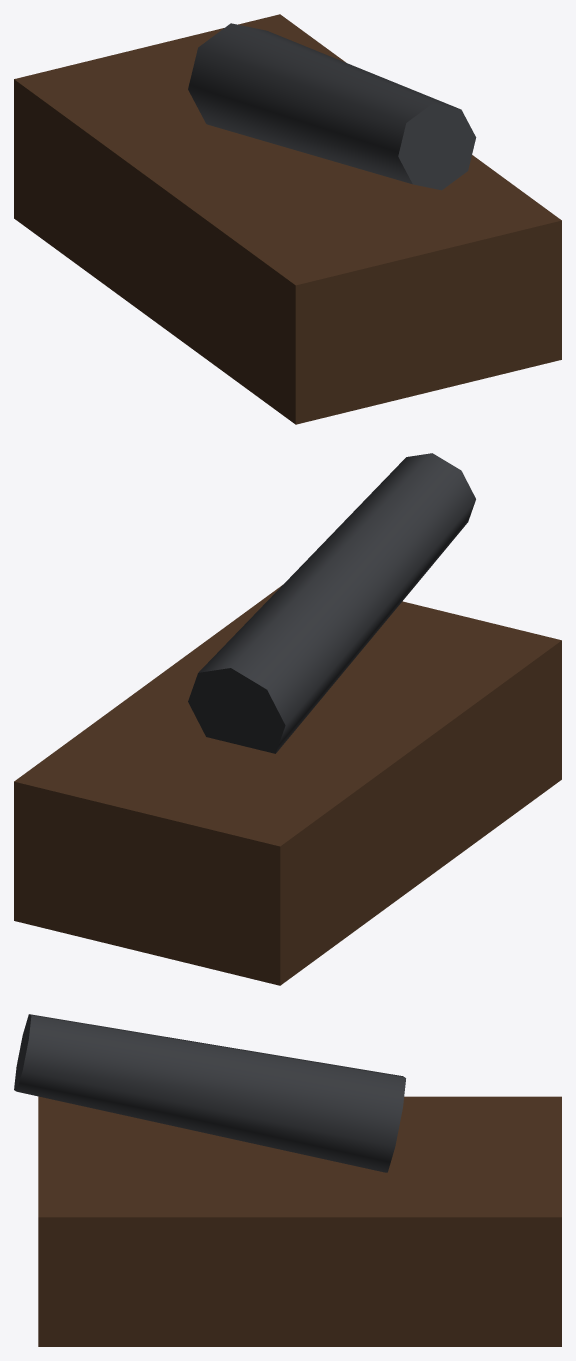
The model's file is unit_mil_gun_a03.glb.
The picture shows the model from 3 angles, top to bottom: view 1: azimuth 30°, elevation 25°; view 2: azimuth 150°, elevation 25°; view 3: azimuth 270°, elevation 25°; orthographic projection. The views are drawn at different scales.
Visible parts, largest first — view 1: body, barrel; view 2: body, barrel; view 3: body, barrel.
Part boxes in pixels (<box>): body: <box>14,14,561,424</box>; barrel: <box>188,23,476,190</box>; body: <box>14,585,561,985</box>; barrel: <box>188,453,475,753</box>; body: <box>38,1096,561,1346</box>; barrel: <box>14,1014,405,1172</box>.
Size of what is drawn, in the model's own units: 1.2 by 1.25 by 2.3.
